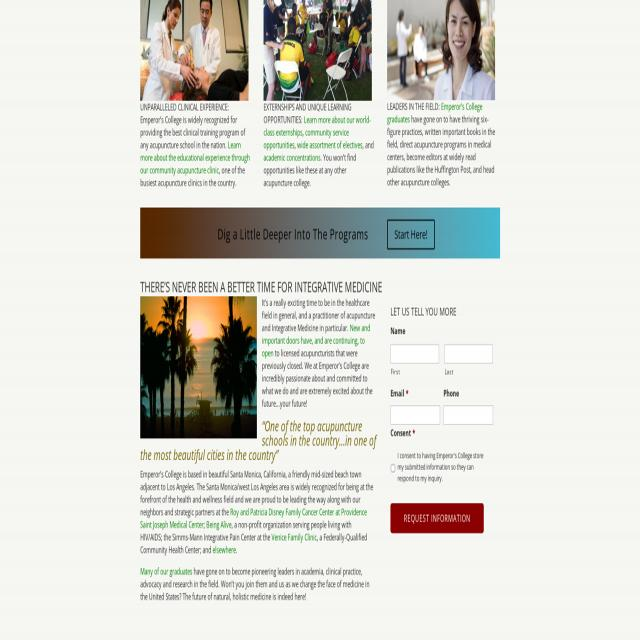button: (140, 296, 257, 438), (140, 0, 248, 101), (264, 0, 372, 101), (387, 0, 495, 100), (390, 503, 484, 533), (387, 220, 435, 249)
field: (391, 344, 439, 364), (445, 344, 493, 364), (390, 406, 440, 424), (443, 406, 493, 424), (391, 464, 395, 472)
